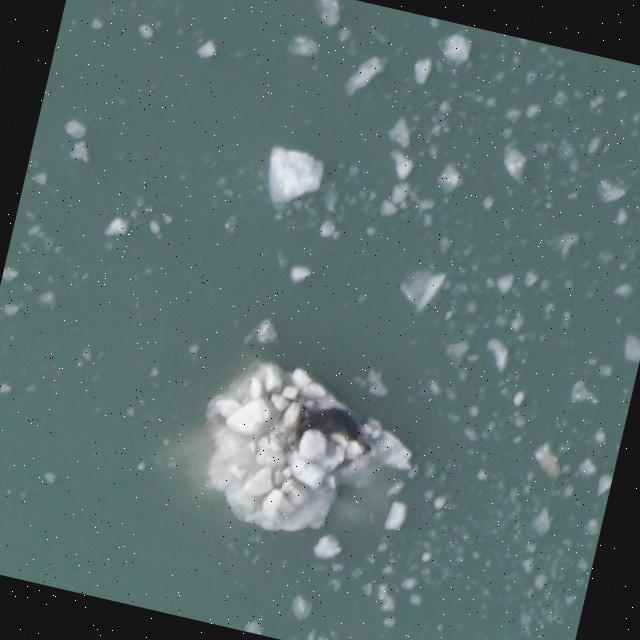seal: (289, 398, 384, 461)
